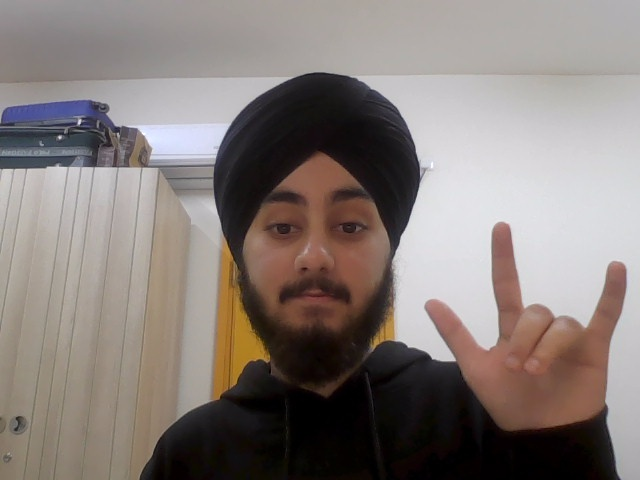ILoveYou: (423, 216, 631, 432)
